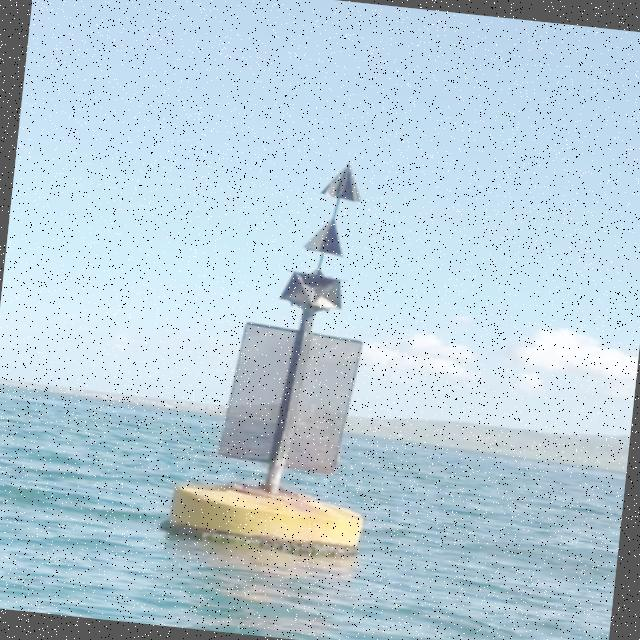marque: (168, 147, 395, 555)
